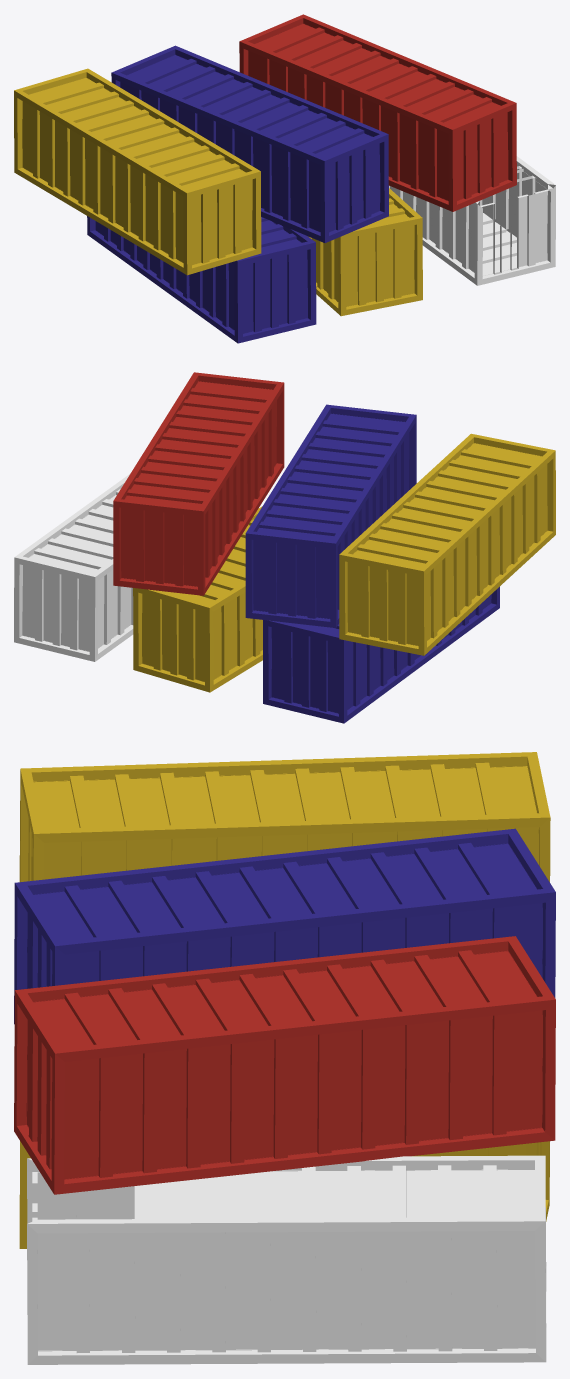
The model's file is 09 Containers_Group.FBX.
The picture shows the model from 3 angles, top to bottom: view 1: azimuth 30°, elevation 25°; view 2: azimuth 150°, elevation 25°; view 3: azimuth 270°, elevation 25°; orthographic projection. The views are drawn at different scales.
Visible parts, largest first — view 1: Box119, Box117, Box118, Box115, Box113, Box114; view 2: Box119, Box117, Box118, Box113, Box114, Box115; view 3: Box117, Box113, Box118, Box119, Box114.
Boxes of the visible parts, x1,y1,x2,y2 form: Box119: [14, 68, 261, 275]; Box117: [239, 14, 516, 211]; Box118: [111, 45, 388, 242]; Box115: [87, 216, 316, 343]; Box113: [389, 156, 555, 285]; Box114: [308, 188, 422, 316]; Box119: [339, 433, 555, 655]; Box117: [113, 372, 284, 595]; Box118: [245, 404, 416, 627]; Box113: [14, 473, 133, 661]; Box114: [133, 506, 262, 692]; Box115: [263, 586, 499, 723]; Box117: [14, 936, 555, 1194]; Box113: [27, 1155, 546, 1364]; Box118: [14, 828, 555, 1024]; Box119: [19, 752, 550, 882]; Box114: [19, 1141, 549, 1248].
Bounding box in the file's own units: 1509 × 606 × 1045.
